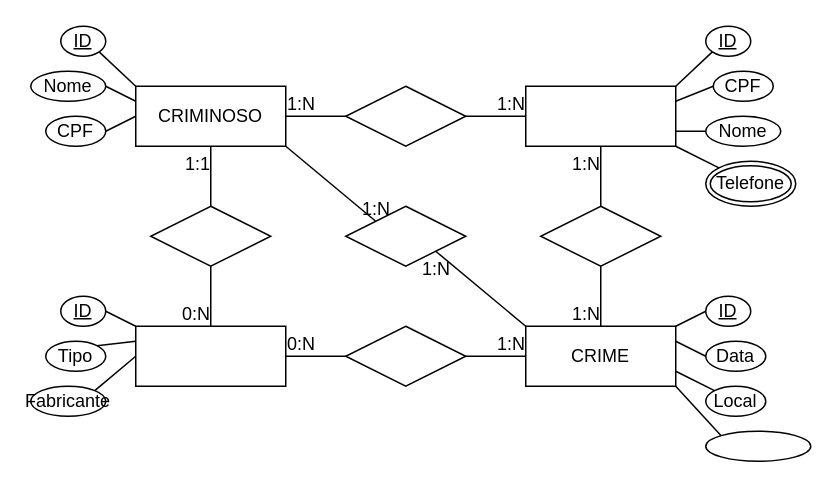
The diagram is 837 pixels wide and 488 high, and some of its shapes have lost their labels. The shapes that lost their labels are listed below. From the top down, each one's centre as x and y in pixels, then its label:
At (x=405, y=115): "Ataca".
At (x=600, y=115): "VÍTIMA".
At (x=210, y=235): "Utiliza".
At (x=405, y=235): "Comete".
At (x=600, y=235): "Sofre".
At (x=210, y=355): "ARMA".
At (x=405, y=355): "Utilizada".
At (x=757, y=445): "Descrição".
